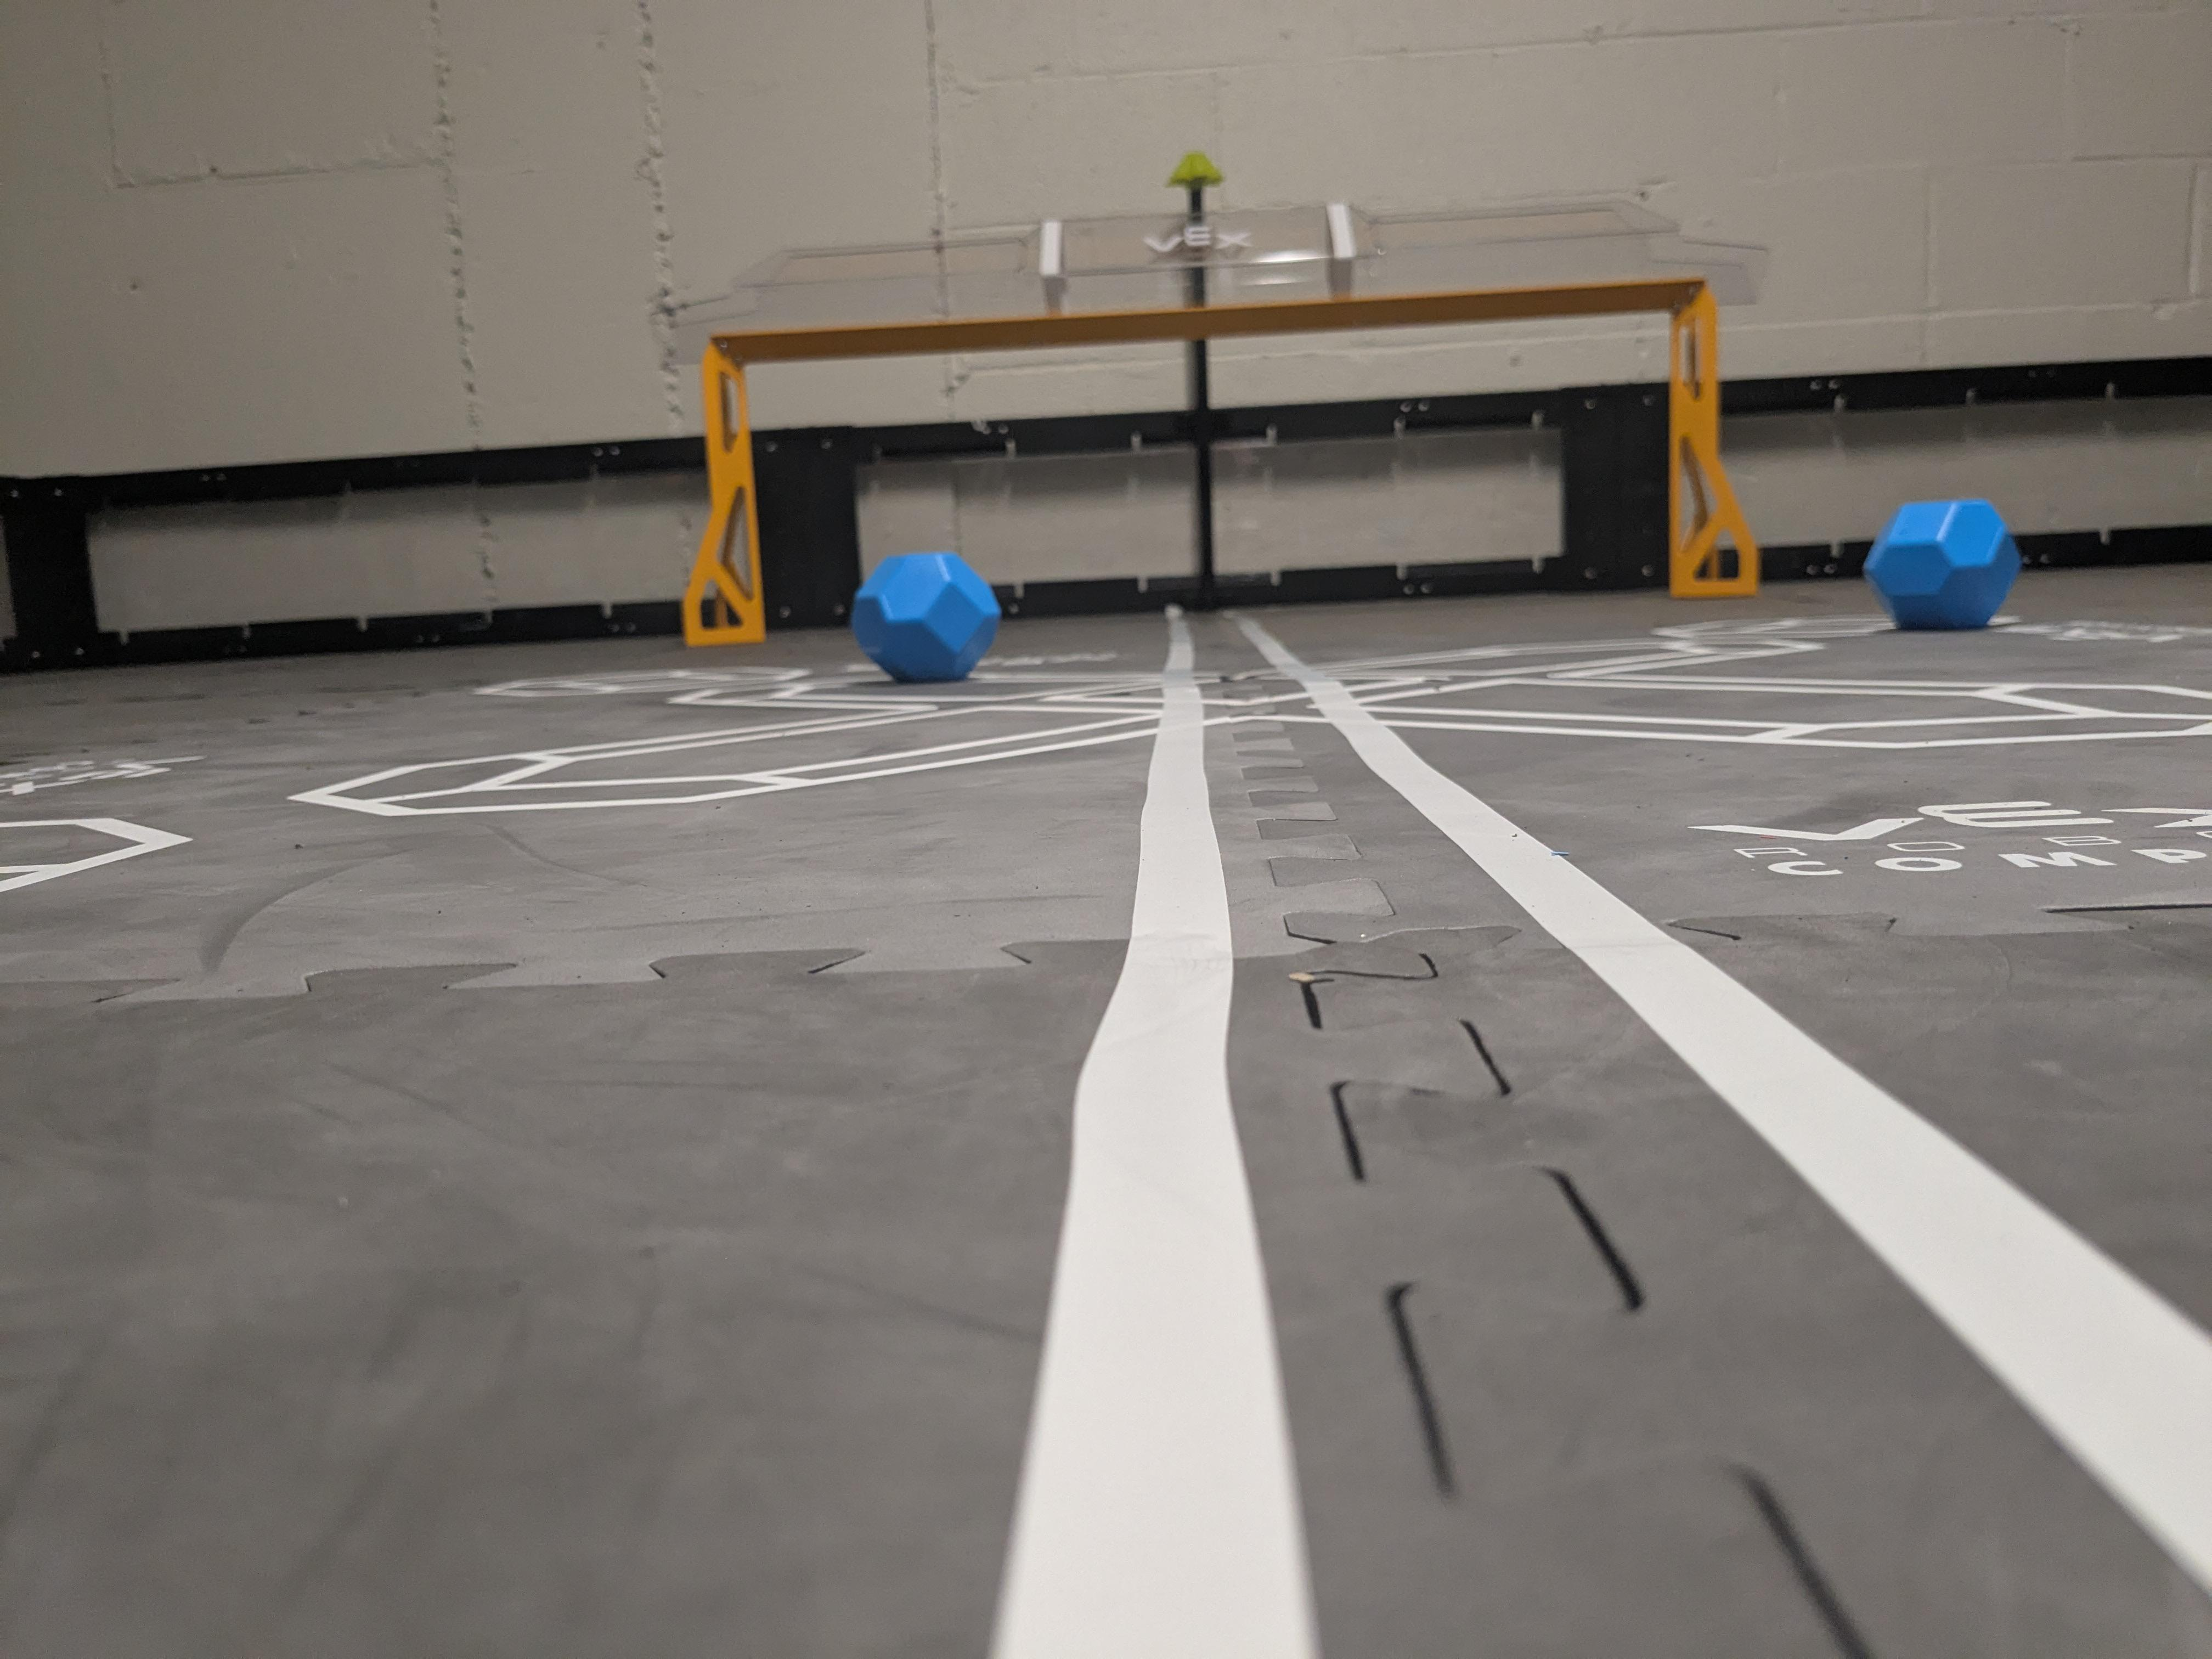Vex-Pieces-BLUE: (1862, 500, 2017, 629), (853, 551, 1001, 681)
